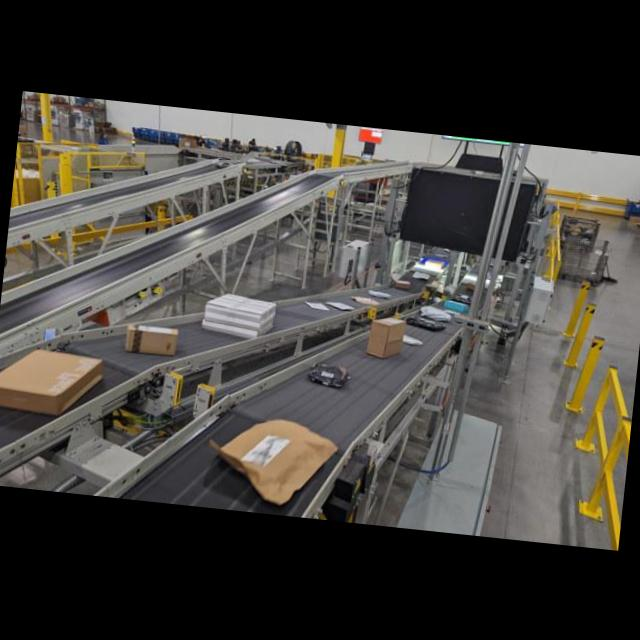box: (0, 349, 102, 414), (203, 293, 276, 336), (366, 316, 405, 356), (126, 324, 177, 354), (444, 298, 469, 311), (395, 279, 410, 288)
mailer: (210, 418, 336, 504), (406, 315, 445, 329), (418, 304, 450, 320), (325, 300, 354, 310), (450, 294, 474, 304), (349, 296, 378, 304), (305, 300, 329, 309), (403, 334, 423, 344), (366, 290, 389, 296), (443, 308, 458, 315)
